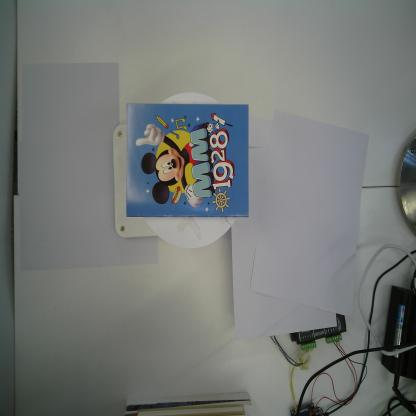Stationery: (124, 101, 250, 219)
